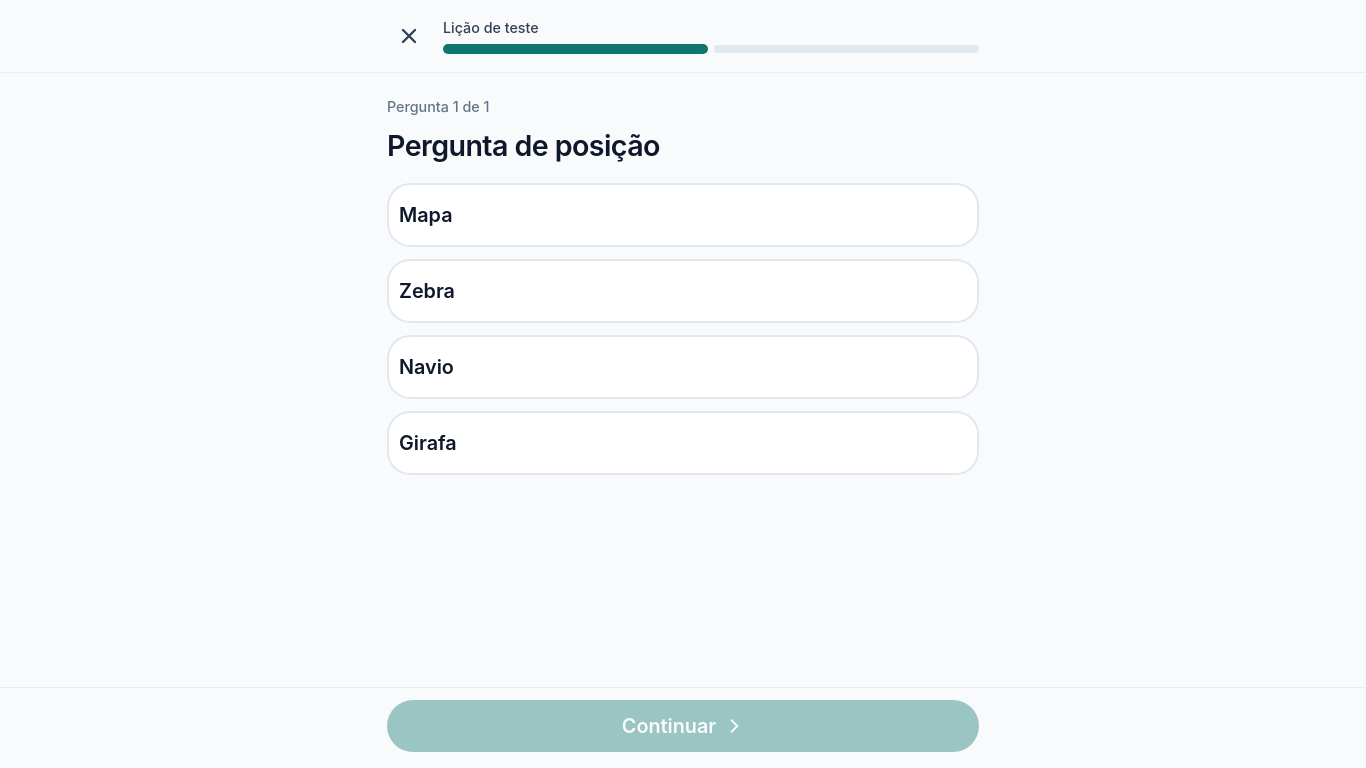
Test case: quiz: a correção é pelo ID da alternativa, nunca pela posição › alternativa correta originalmente na posição 0: acertar marca "chosen-ok"
Click the button "Zebra": (427, 291) [387,259,979,323]
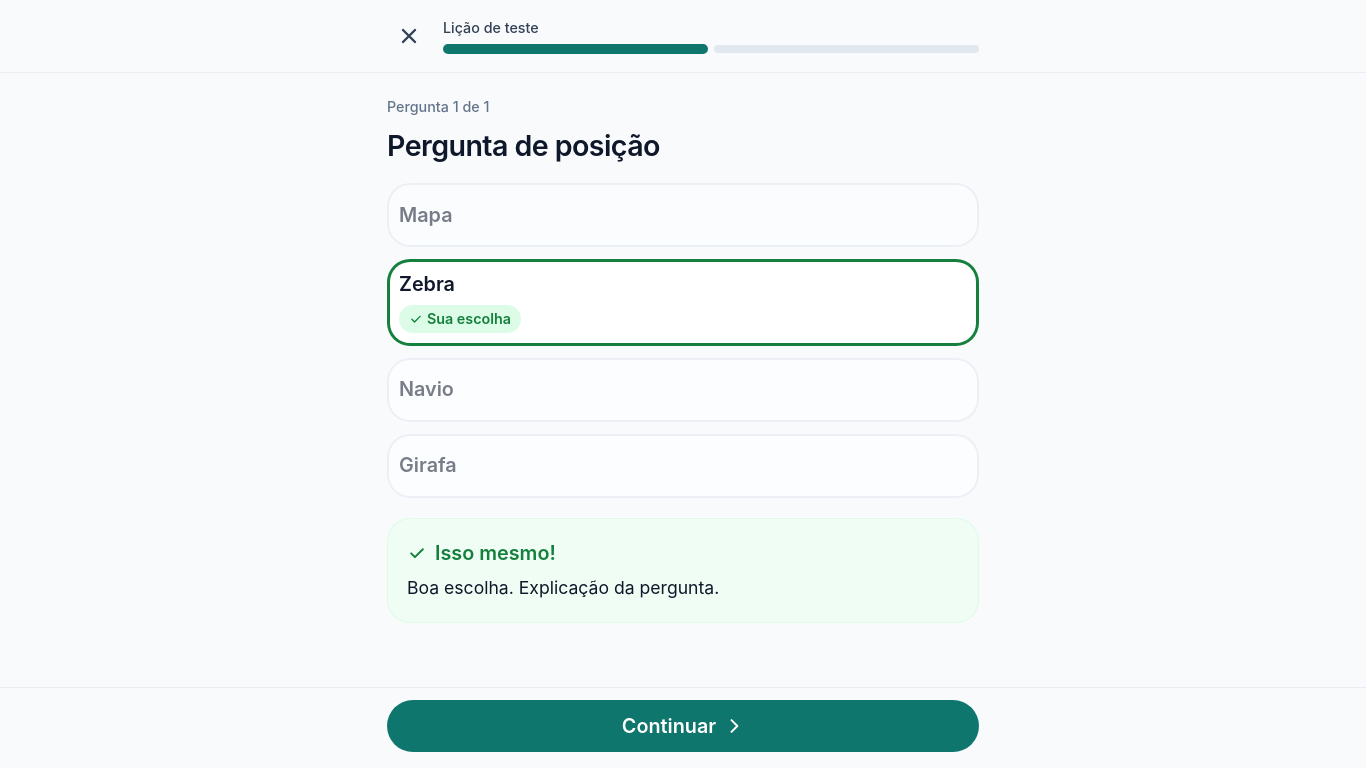
Expected: the text "Boa escolha. Explicação da pergunta." is shown, [407,577,719,598]
Expected: the button "Continuar" is enabled, [387,700,979,752]
